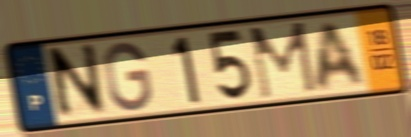1: (170, 34, 204, 106)
5: (206, 26, 254, 105)
A: (314, 18, 369, 94)
G: (102, 40, 155, 113)
M: (246, 19, 320, 103)
N: (48, 40, 109, 125)
